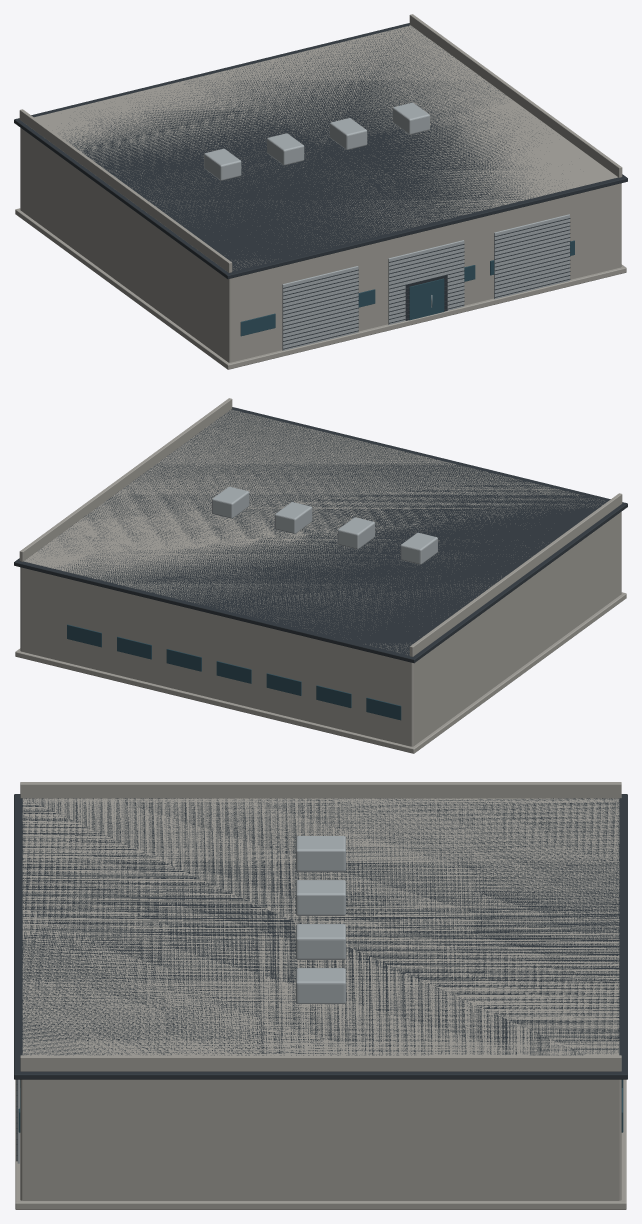
File: SM_Garage.fbx
3 views of the same model, one above another, from view 1: azimuth 30°, elevation 25°; view 2: azimuth 150°, elevation 25°; view 3: azimuth 270°, elevation 25° (orthographic). The views are drawn at different scales.
Parts seen in each view (by area): view 1: SM_Garage; view 2: SM_Garage; view 3: SM_Garage.
Part boxes in pixels (x1,y1,x2,y2): SM_Garage: (14, 14, 627, 369); SM_Garage: (14, 398, 627, 753); SM_Garage: (14, 782, 627, 1209).
Size of the model in its own units: 2650 by 2450 by 700.
